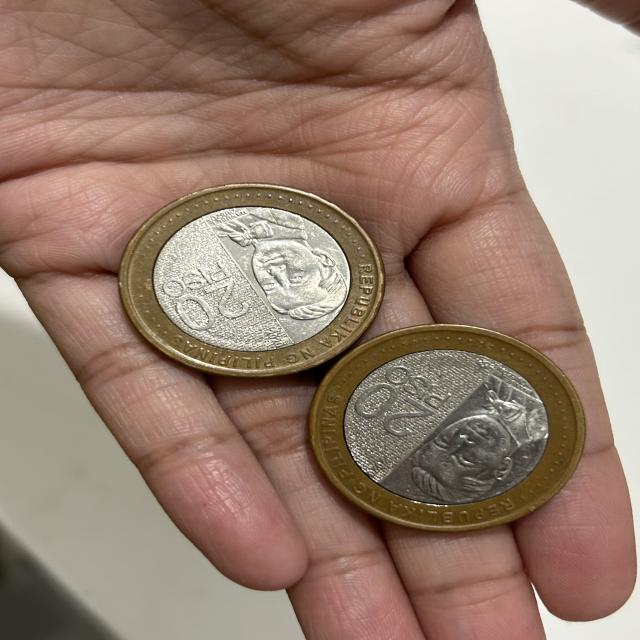20_New_Front: (158, 264, 257, 344), (352, 364, 449, 440)
